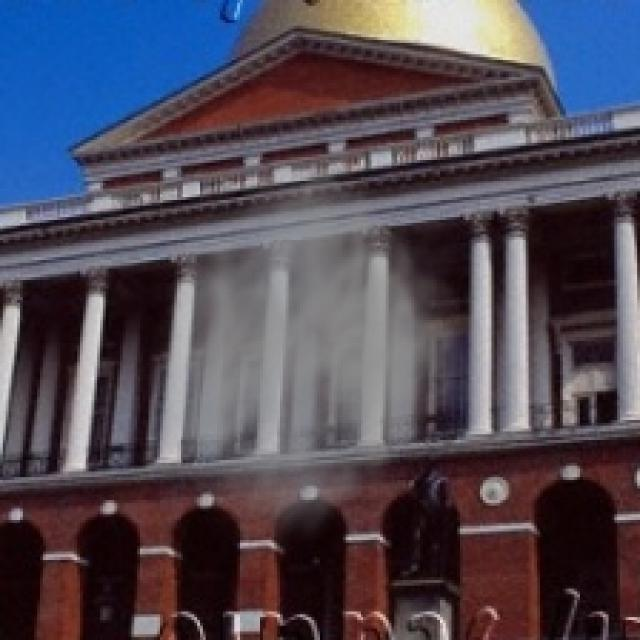Smoke: (148, 148, 498, 554)
